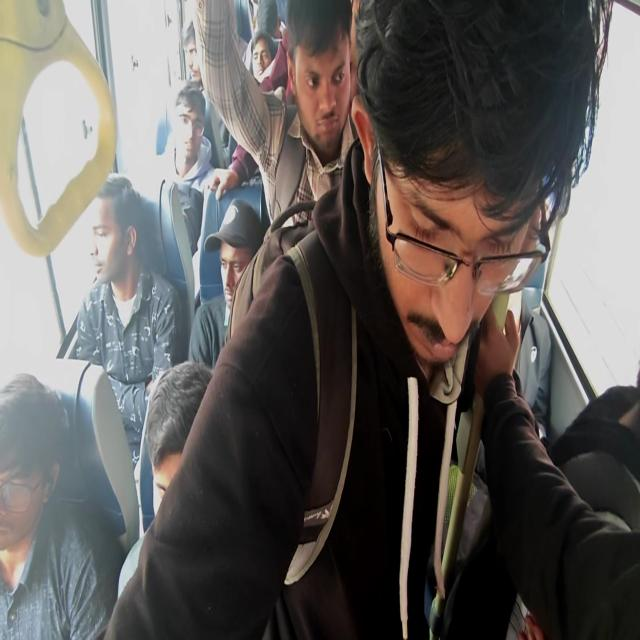person: (359, 17, 573, 350), (146, 382, 224, 563), (0, 316, 52, 538), (294, 0, 345, 135), (90, 178, 144, 283), (214, 220, 273, 304), (170, 91, 213, 175), (182, 23, 215, 80), (252, 31, 276, 88), (252, 4, 282, 41)
